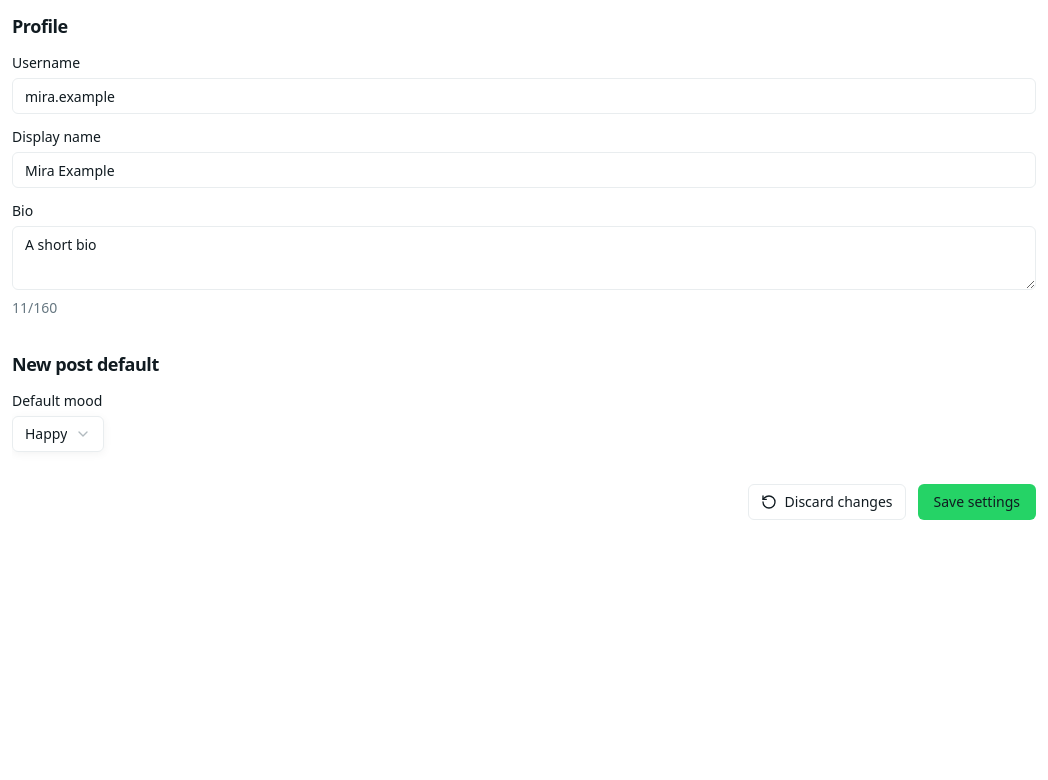
Scenario: ProfileSettingsForm › shows a taken username beside the field and keeps the draft
The image size is (1048, 780).
Replace the text in the field labelled "Username" with "taken.name": (524, 96) [12, 78, 1036, 114]
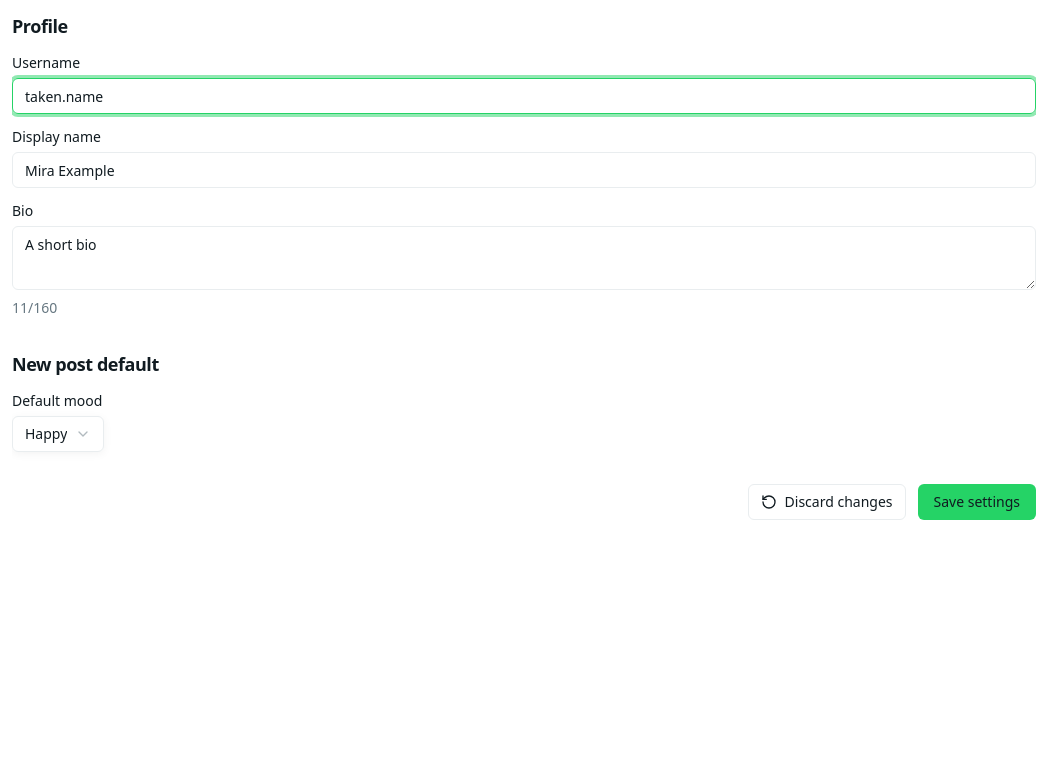
Click the button "Save settings": (977, 502) [918, 484, 1036, 520]
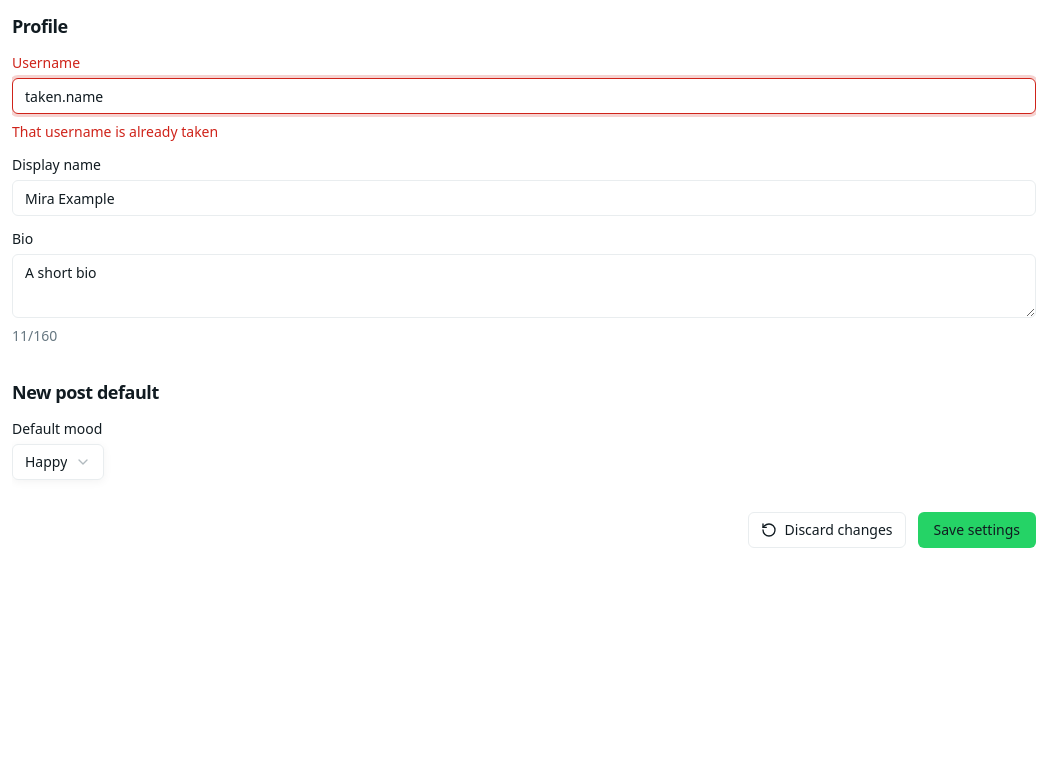
Result: the text "That username is already taken" is shown at [12, 122, 218, 141]
